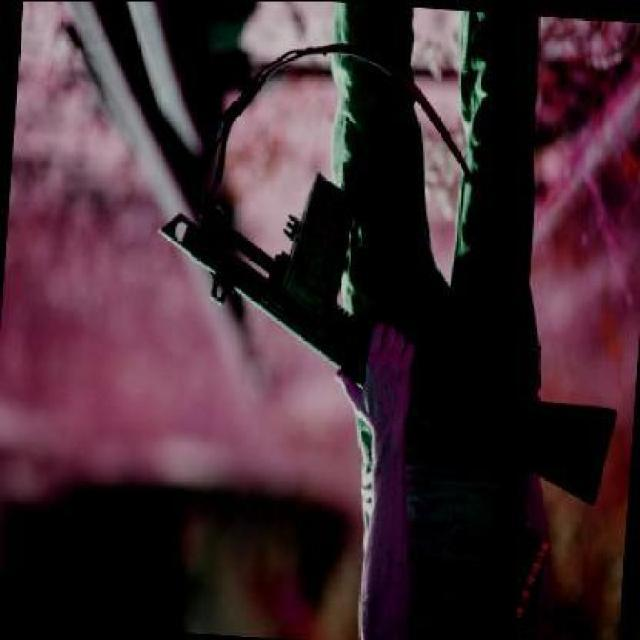Rifle: (128, 167, 640, 520)
